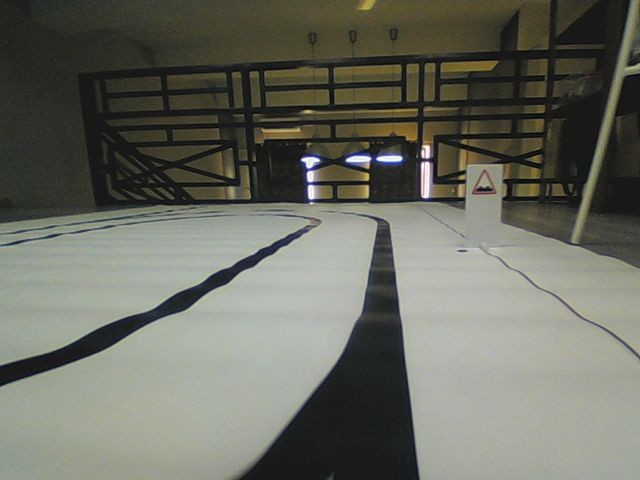Nerov: (470, 167, 497, 195)
